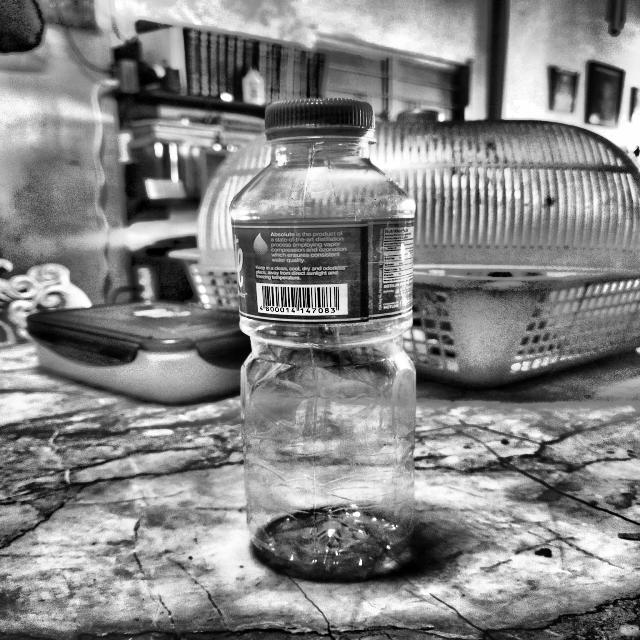Plastic-Bottle: (228, 96, 420, 580)
